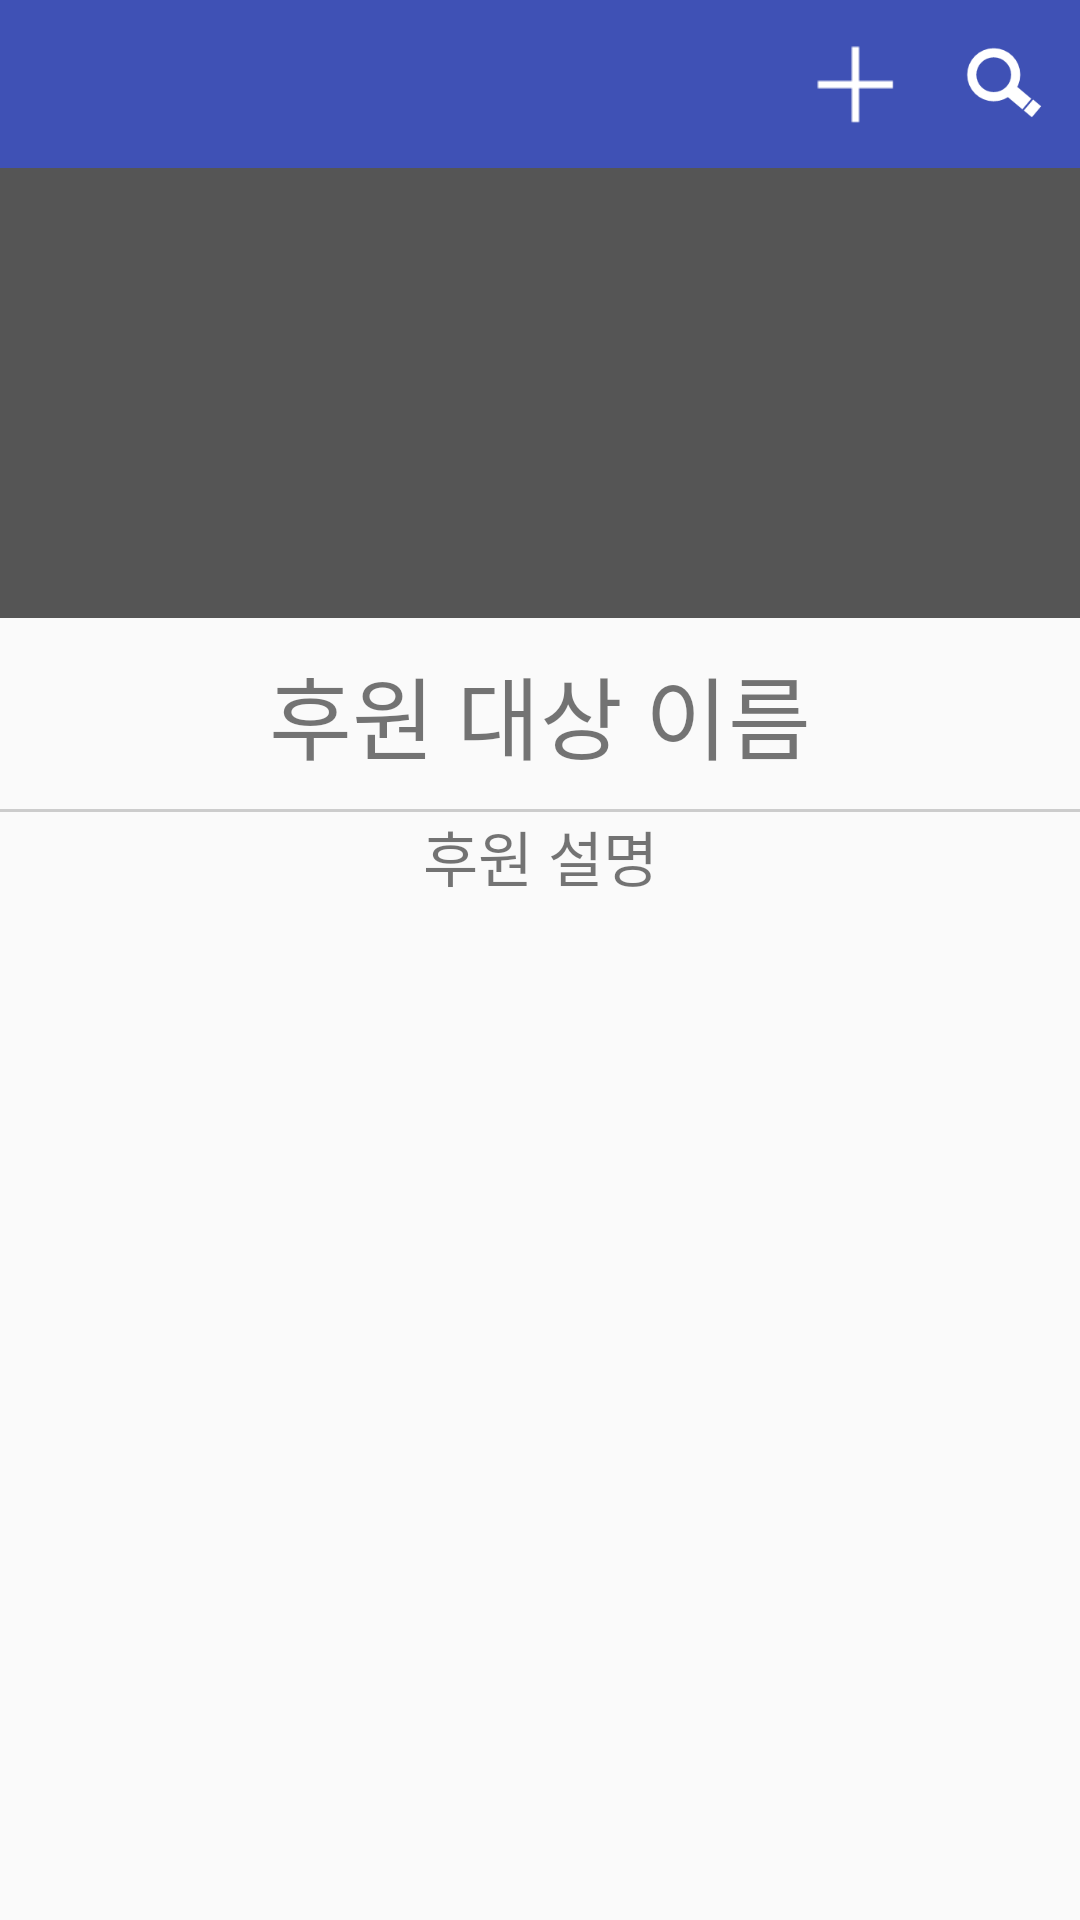

Named icons in this screenshot (1080*1920) and their centers, (x=x, y=y):
plus: (x=855, y=84)
search: (x=1004, y=82)
